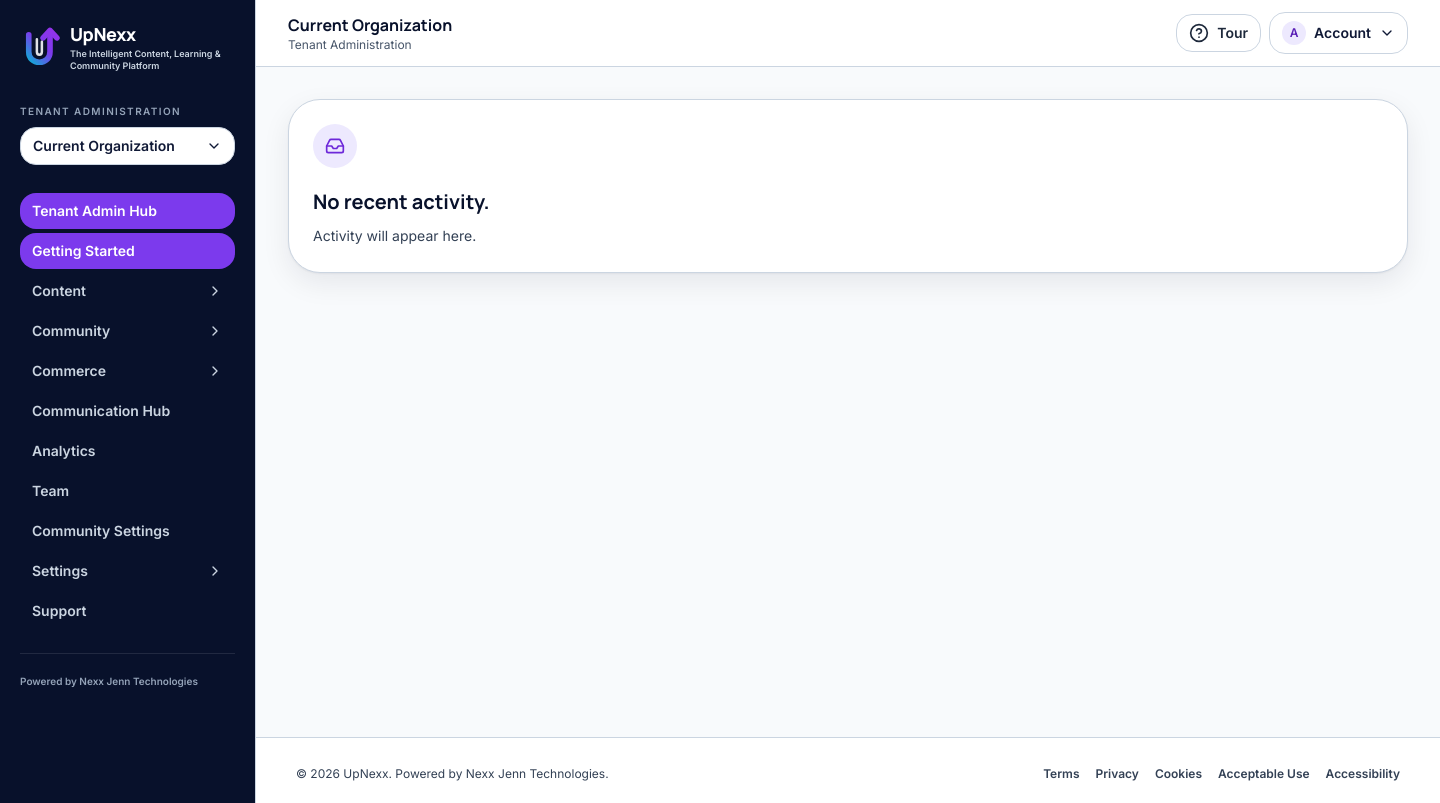
Test case: application integration surfaces › shares tenant branding and dashboard navigation
Expected: the 2nd text "Current Organization" is shown, [33,136,175,156]
Click the button "Community": coordinates (128, 331) [20,313,235,349]
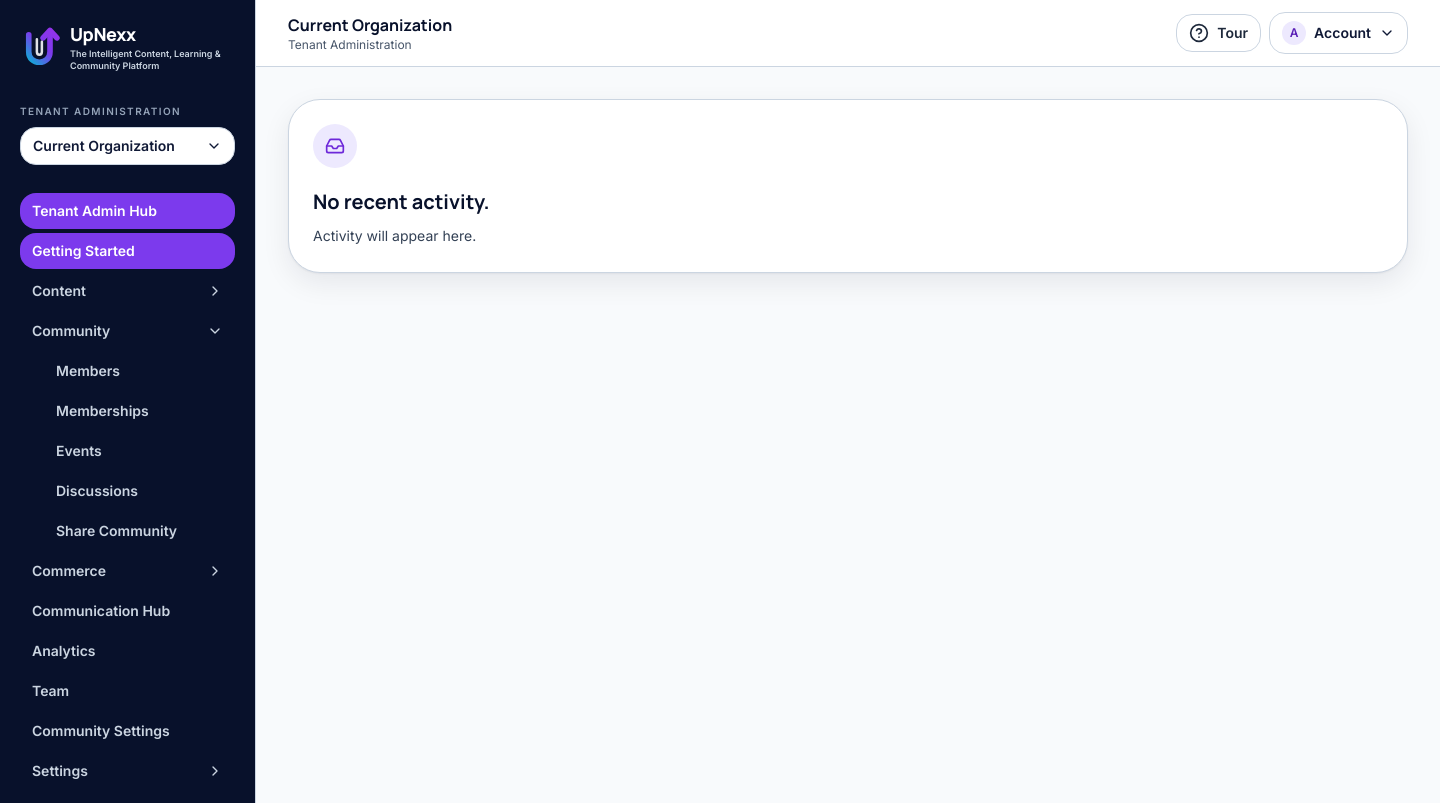
Expected: the navigation bar named "Current Organization dashboard navigation" shows "Memberships", [20,393,235,429]
Click the button with aria-label "Open user menu": coordinates (1339, 33) [1269,12,1408,54]
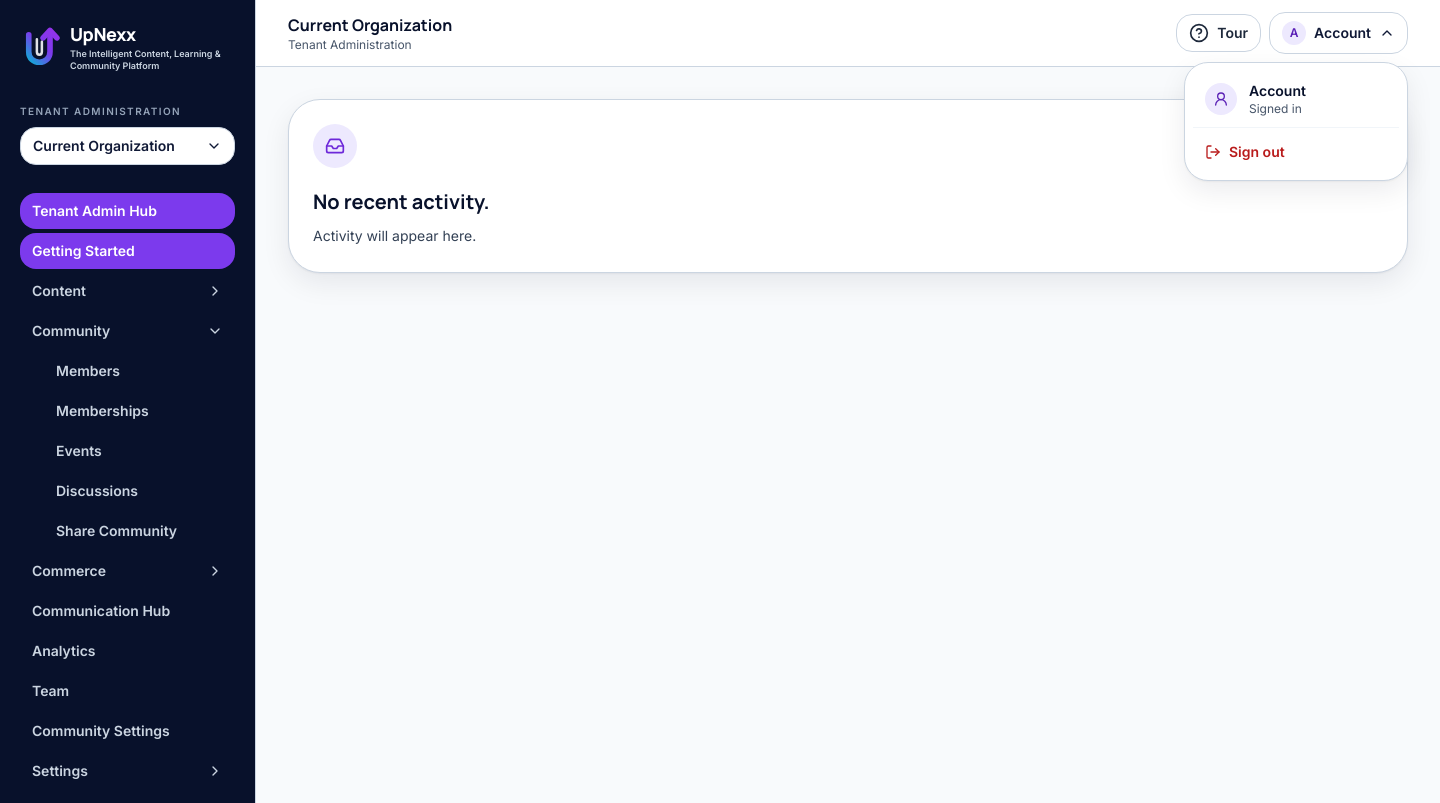
Expected: the heading "No recent activity." is shown, [313,188,490,216]
Expected: the menu item "Sign out" is shown, [1193,132,1399,172]
